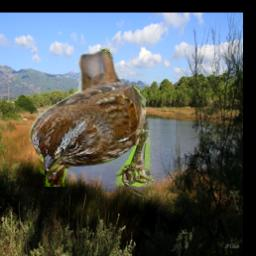Sparrow: (29, 48, 157, 188)
